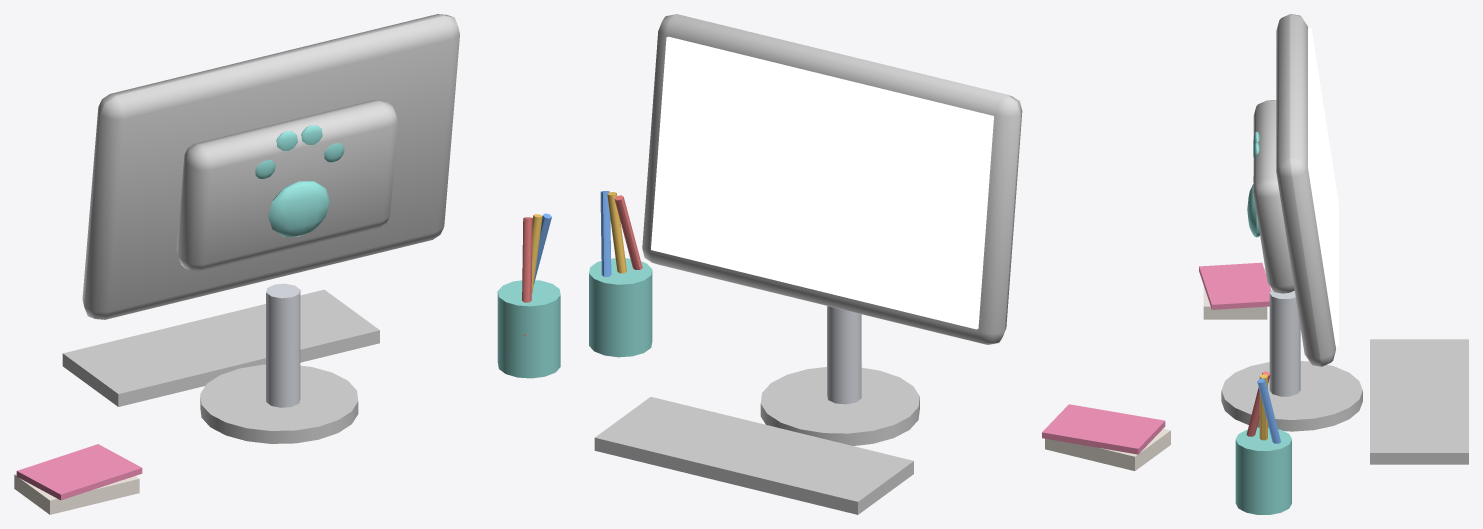
The model's file is reception_monitor.glb.
The picture shows the model from 3 angles, left to right: view 1: azimuth 30°, elevation 25°; view 2: azimuth 150°, elevation 25°; view 3: azimuth 270°, elevation 25°; orthographic projection. The views are drawn at different scales.
Visible parts, largest first — view 1: reception_monitor; view 2: reception_monitor; view 3: reception_monitor.
Boxes of the visible parts, x1,y1,x2,y2 form: reception_monitor: (14, 14, 560, 514); reception_monitor: (589, 14, 1170, 514); reception_monitor: (1199, 14, 1468, 514).
Bounding box in the file's own units: 0.7846 × 0.4935 × 0.3816.
